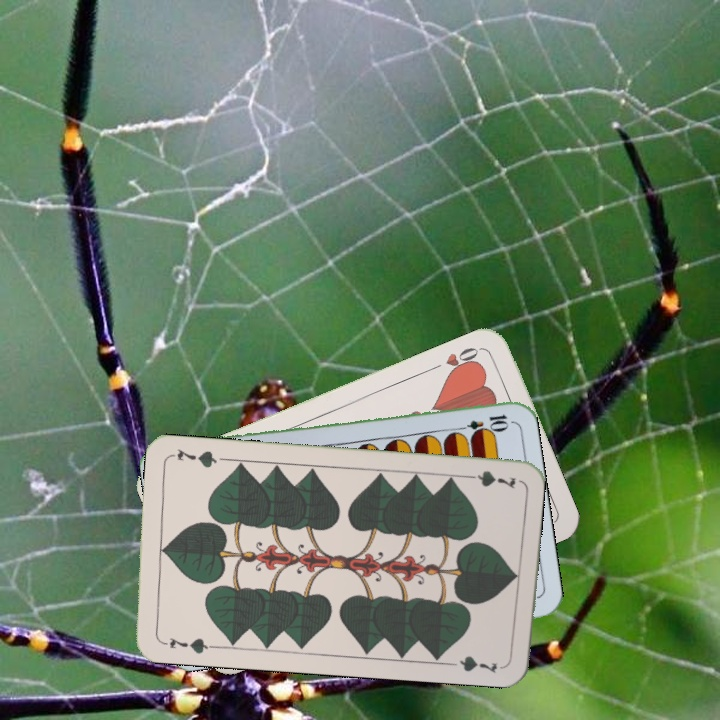E10: (452, 410, 511, 435)
G7: (460, 466, 519, 491), (157, 633, 216, 656)
HO: (427, 343, 483, 378)
